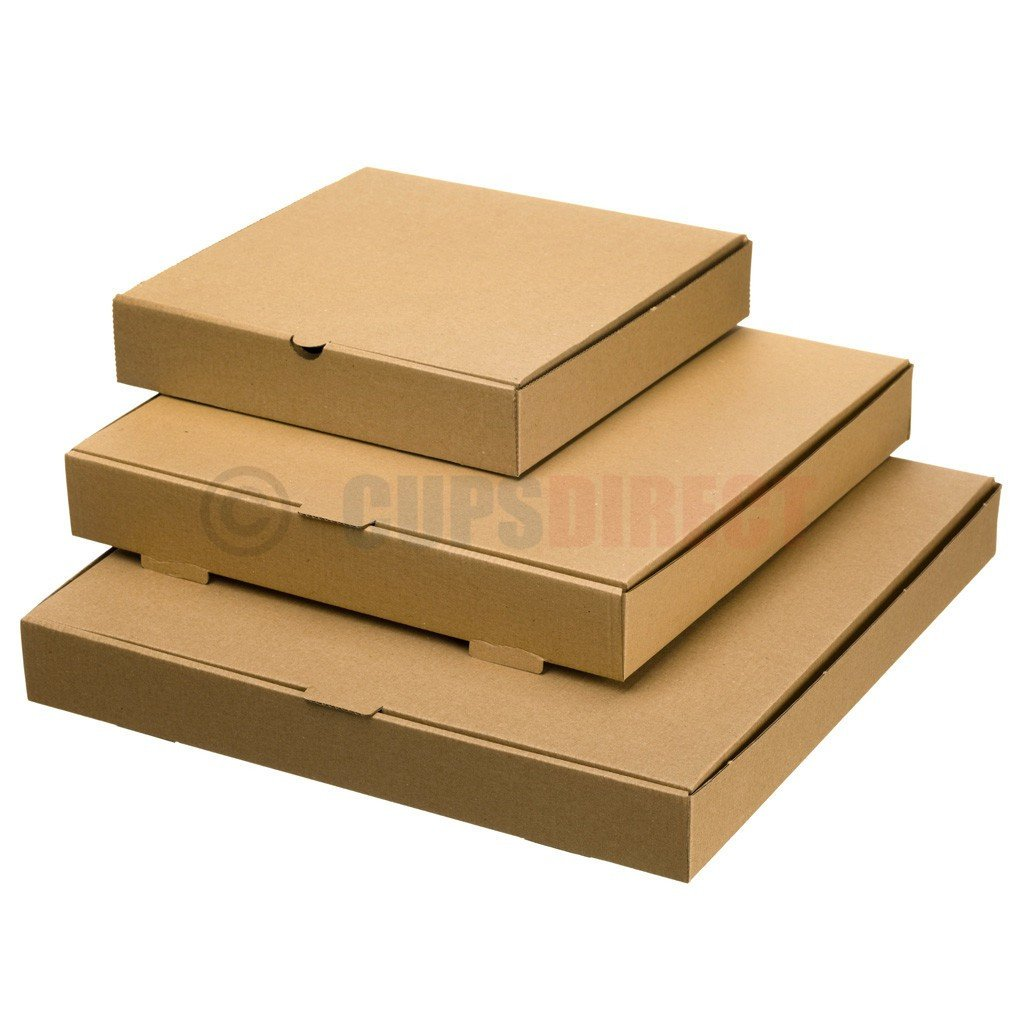Rec_Paper: (4, 103, 1013, 886), (1, 333, 934, 669), (109, 128, 779, 473)
